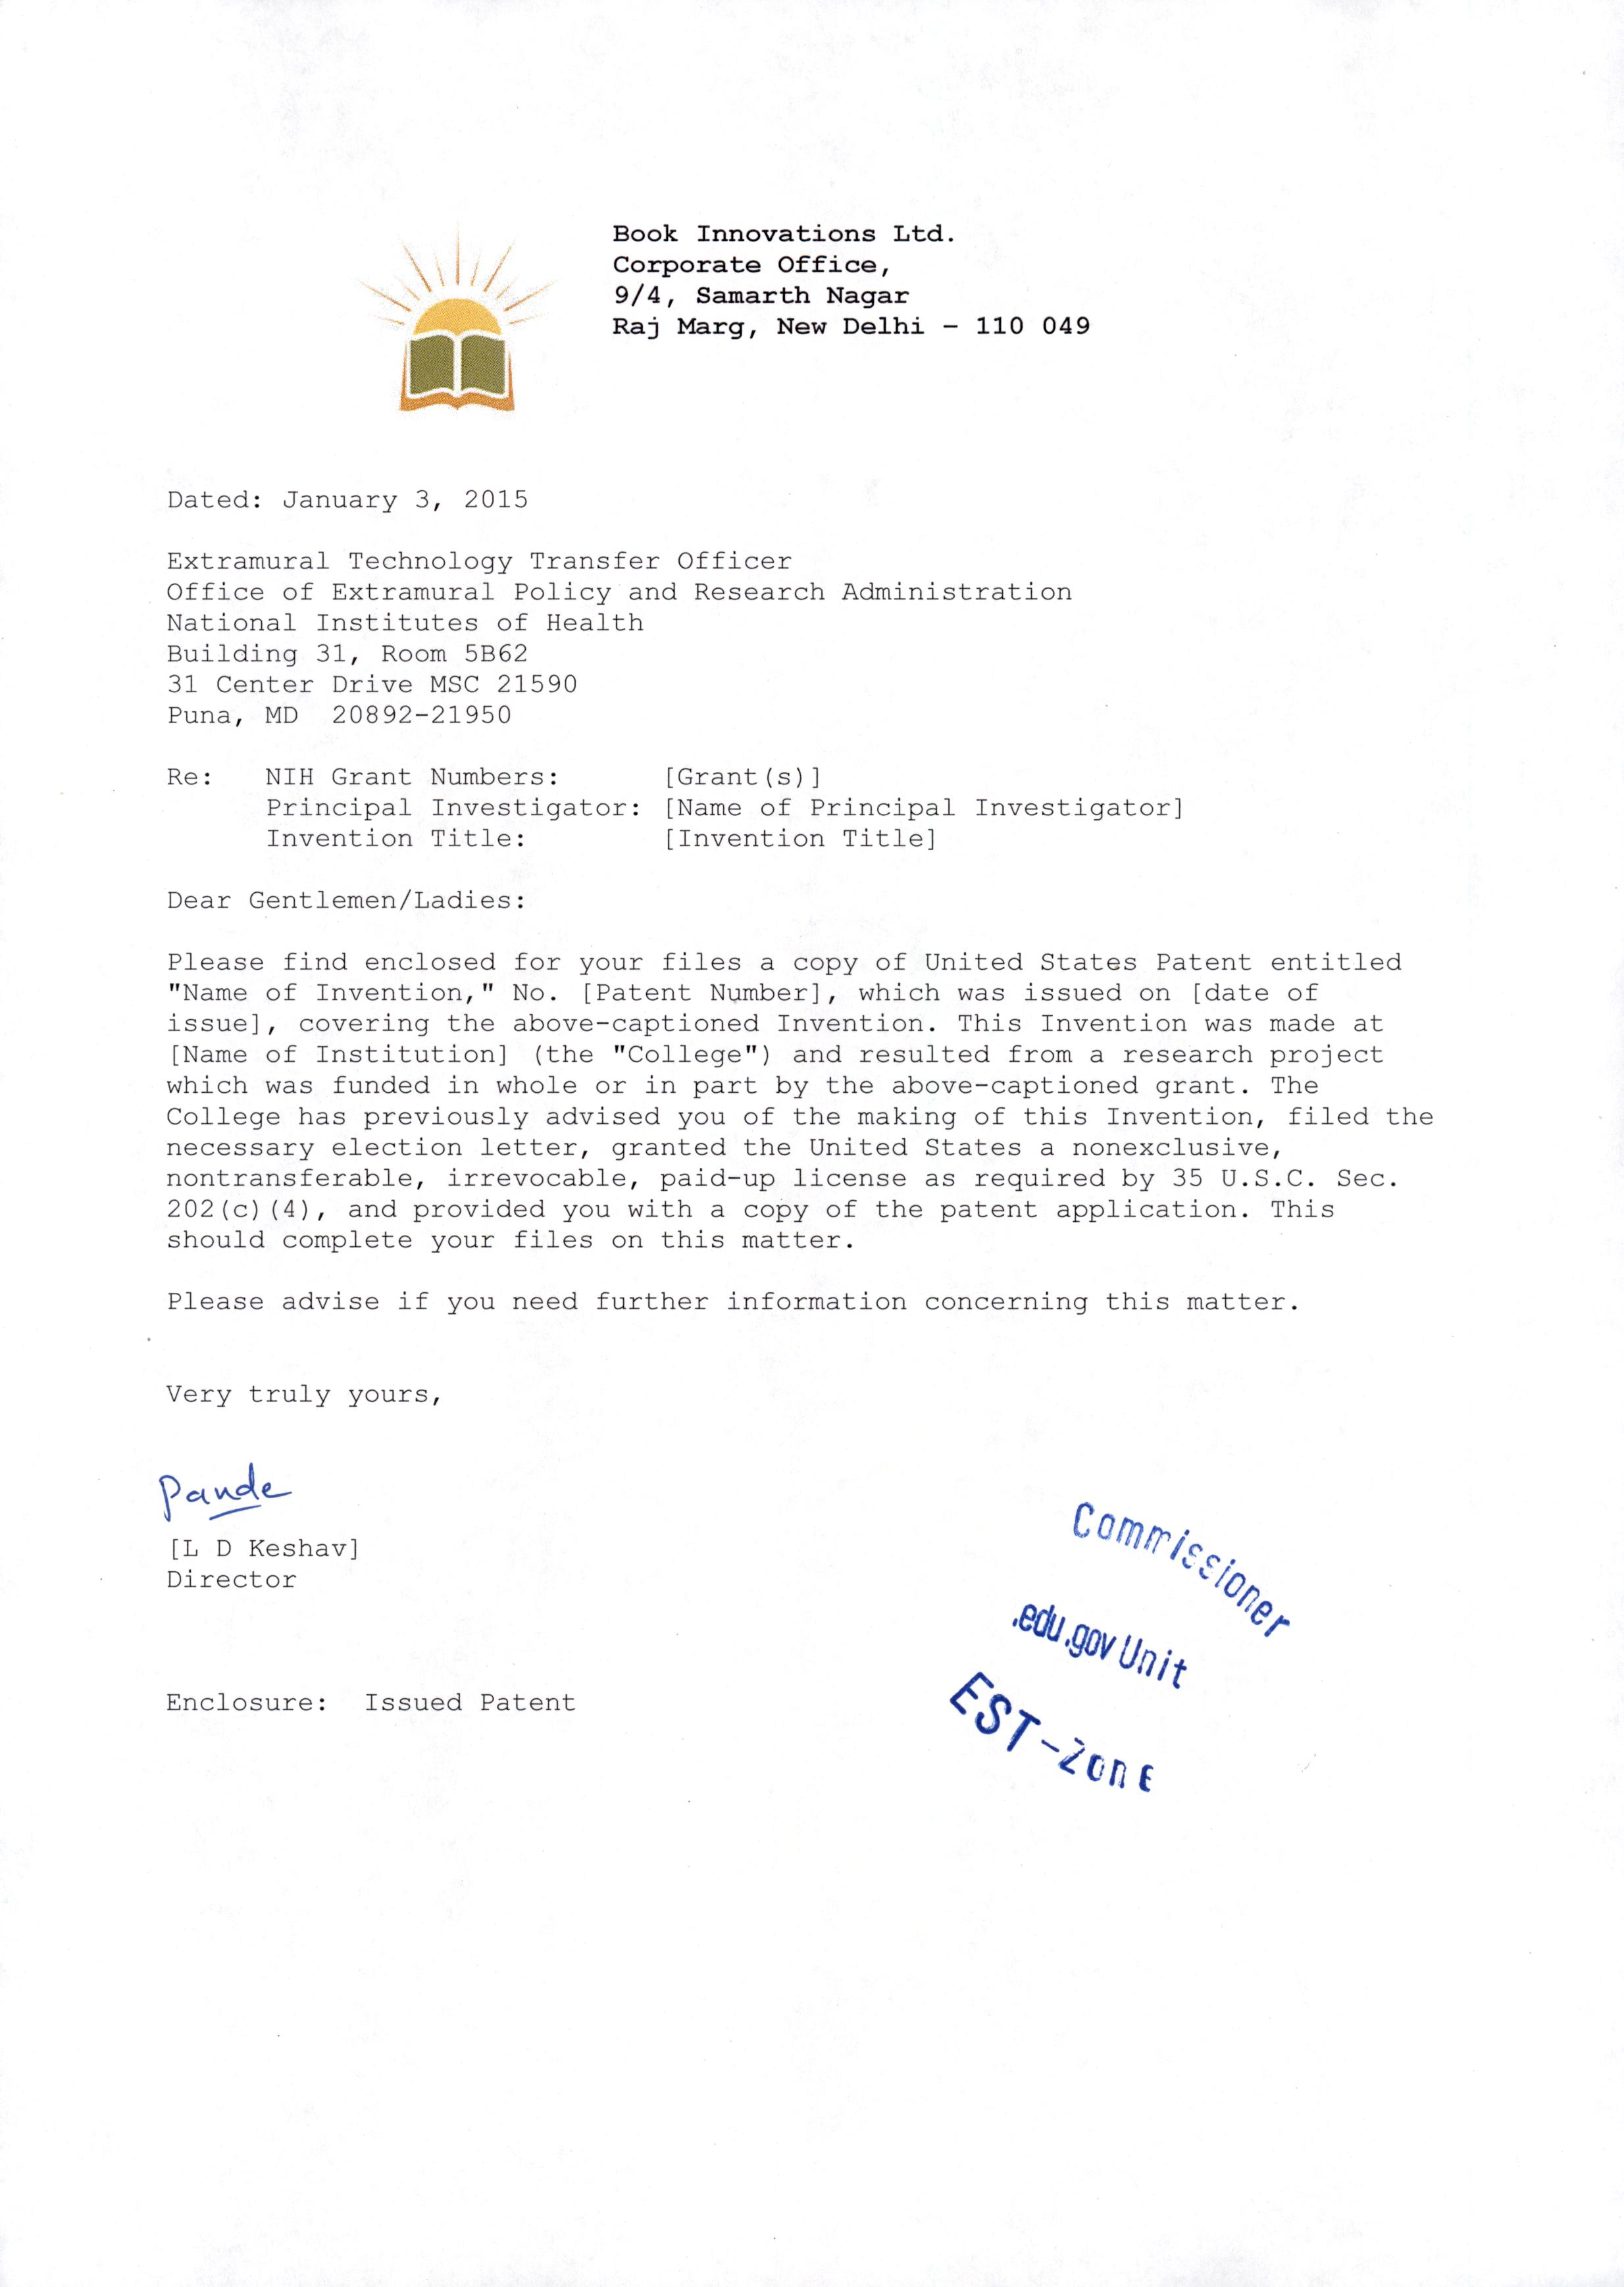Signature: (144, 1456, 308, 1532)
